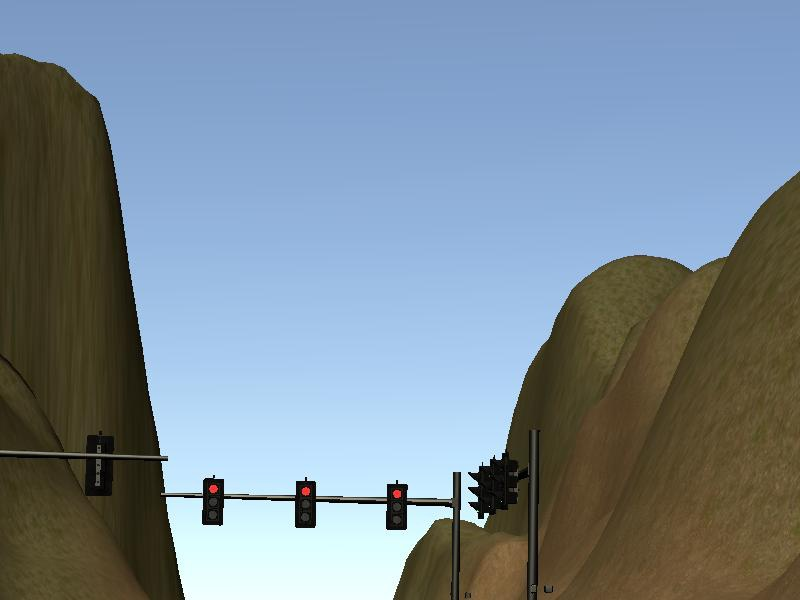Red: (200, 476, 226, 528), (385, 478, 410, 532), (295, 478, 320, 530)
